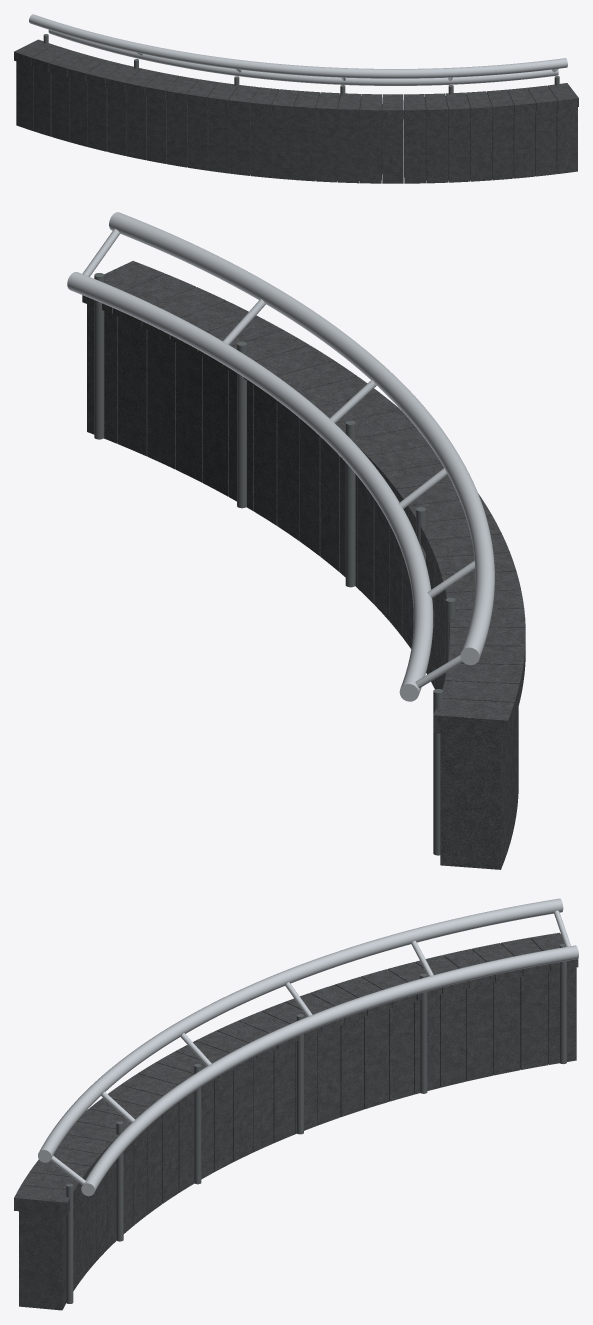
File: candidate_curve_left.glb
3 views of the same model, one above another, from view 1: azimuth 30°, elevation 25°; view 2: azimuth 150°, elevation 25°; view 3: azimuth 270°, elevation 25° (orthographic). The views are drawn at different scales.
Parts seen in each view (by area): view 1: candidate_left__stone, candidate_left__rails, candidate_left__rail_hardware; view 2: candidate_left__stone, candidate_left__rails, candidate_left__rail_hardware; view 3: candidate_left__stone, candidate_left__rails, candidate_left__rail_hardware.
Boxes of the visible parts, <box> form: candidate_left__stone: <box>14,39,578,183</box>; candidate_left__rails: <box>29,14,567,85</box>; candidate_left__rail_hardware: <box>43,30,559,95</box>; candidate_left__stone: <box>82,261,525,869</box>; candidate_left__rails: <box>67,212,494,701</box>; candidate_left__rail_hardware: <box>82,229,475,855</box>; candidate_left__stone: <box>14,932,578,1310</box>; candidate_left__rails: <box>38,898,578,1196</box>; candidate_left__rail_hardware: <box>50,910,570,1303</box>.
Size of the model in its own units: 3.16 by 0.845 by 2.79.
3 materials, 1 textured.
